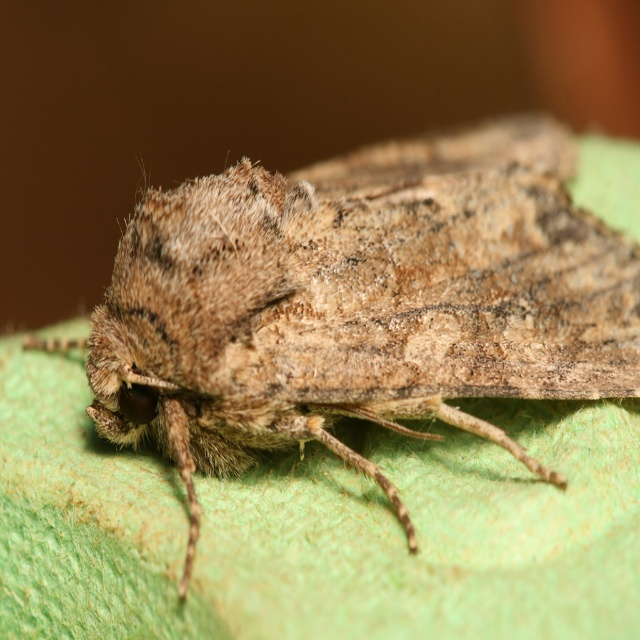Moths and butterflies: (21, 108, 640, 611)
